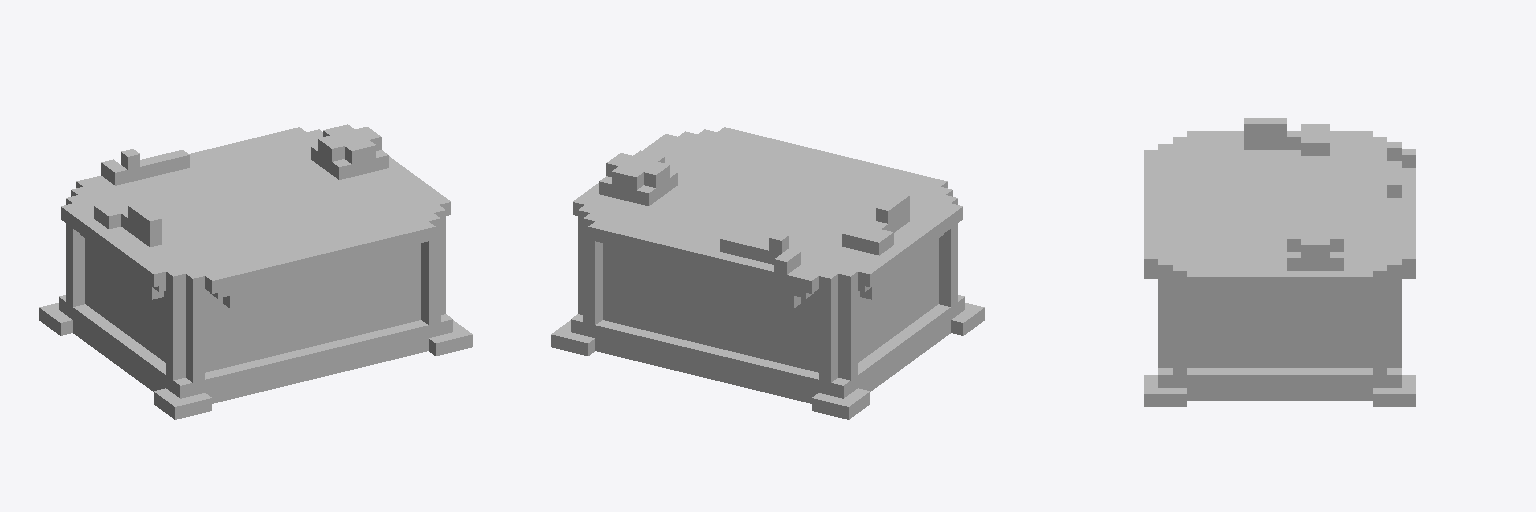
File: Wand Task Table.obj
3 views of the same model, side by side, from view 1: azimuth 30°, elevation 25°; view 2: azimuth 150°, elevation 25°; view 3: azimuth 270°, elevation 25° (orthographic).
Parts seen in each view (by area): view 1: object 1; view 2: object 1; view 3: object 1.
Part boxes in pixels (x1,y1,x2,y2): object 1: (39, 124, 472, 419); object 1: (551, 127, 984, 419); object 1: (1144, 118, 1415, 406).
Bounding box in the file's own units: 2.4 × 1.2 × 1.9.